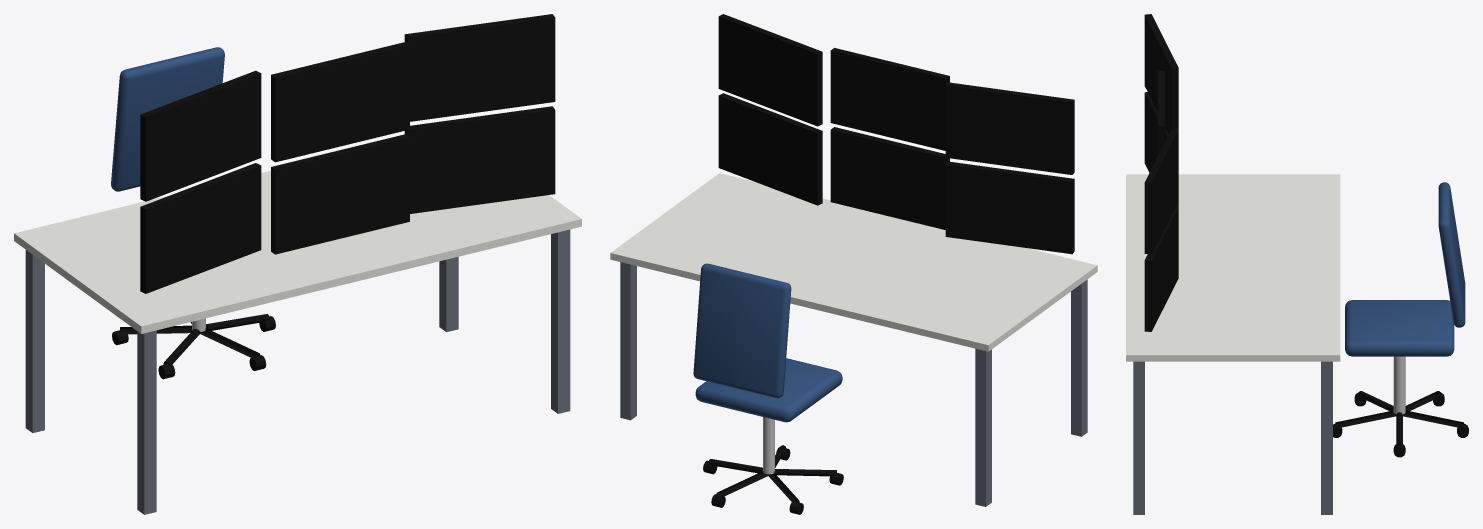
File: office.desk.trading.glb
3 views of the same model, side by side, from view 1: azimuth 30°, elevation 25°; view 2: azimuth 150°, elevation 25°; view 3: azimuth 270°, elevation 25° (orthographic). The views are drawn at different scales.
Parts seen in each view (by area): view 1: main__plastic_black, main__laminate_white, main__steel_painted, main__fabric_blue; view 2: main__plastic_black, main__laminate_white, main__fabric_blue, main__steel_painted, main__steel_stainless; view 3: main__laminate_white, main__plastic_black, main__fabric_blue, main__steel_painted, main__steel_stainless.
Part boxes in pixels (<box>): main__plastic_black: <box>112,14,555,379</box>; main__laminate_white: <box>14,170,581,333</box>; main__steel_painted: <box>25,229,570,514</box>; main__fabric_blue: <box>111,47,224,191</box>; main__plastic_black: <box>703,14,1074,514</box>; main__laminate_white: <box>610,173,1097,351</box>; main__fabric_blue: <box>693,263,842,422</box>; main__steel_painted: <box>620,262,1087,506</box>; main__steel_stainless: <box>763,417,774,474</box>; main__laminate_white: <box>1126,174,1340,361</box>; main__plastic_black: <box>1144,14,1468,457</box>; main__fabric_blue: <box>1345,182,1465,356</box>; main__steel_painted: <box>1133,361,1332,514</box>; main__steel_stainless: <box>1393,356,1405,414</box>.
Size of the model in its own units: 1.8 by 1.52 by 1.44.
